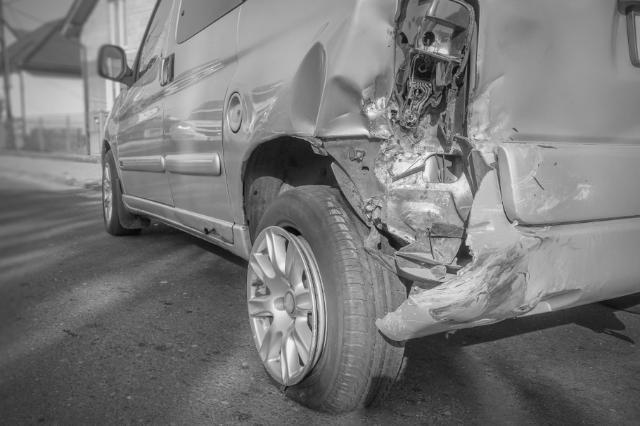Bumper: (341, 143, 599, 341)
Fender: (246, 40, 370, 142)
Light: (398, 0, 463, 167)
